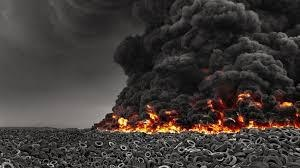fire: (109, 91, 300, 139)
